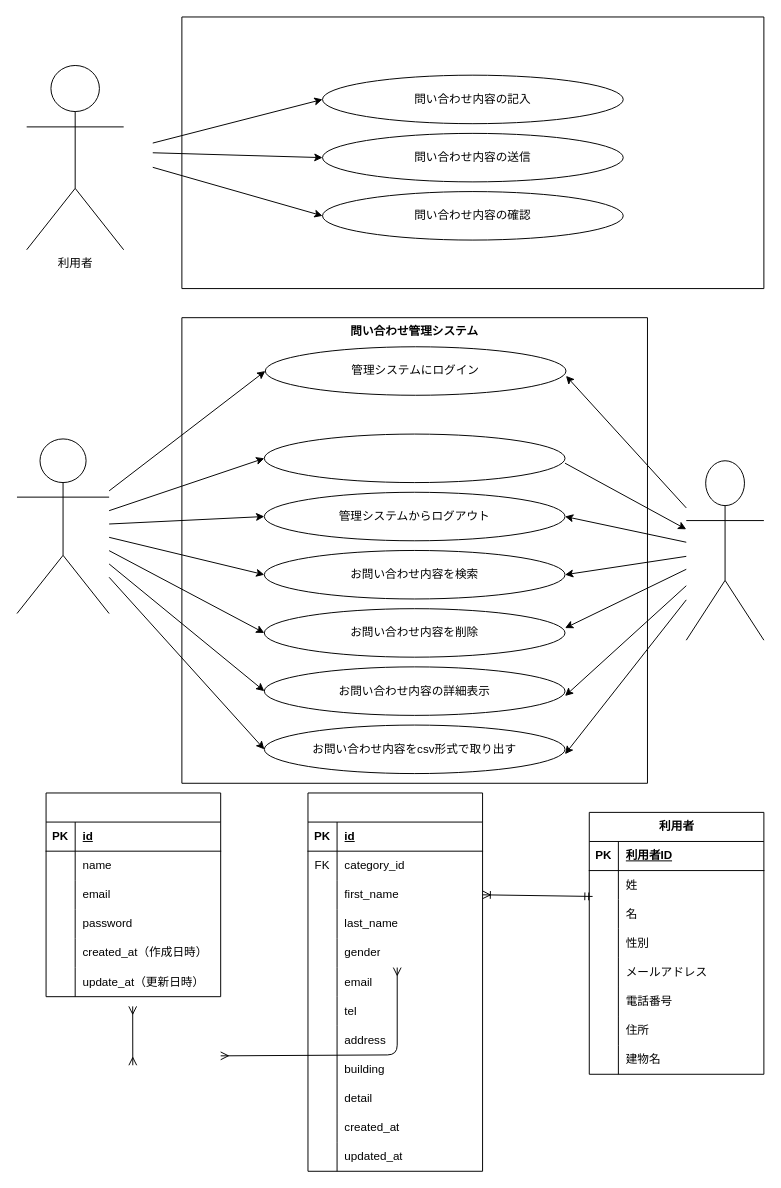
This 781x1188 diagram has some shape labels left out. Each missing label, with the box of its shape:
contacts: (307, 792, 483, 1171)
users: (45, 792, 221, 997)
問い合わせ送信システム: (181, 16, 764, 289)
新規ユーザーの作成・登録: (263, 433, 565, 483)
新規管理者: (685, 460, 764, 640)
管理者: (16, 438, 109, 614)
